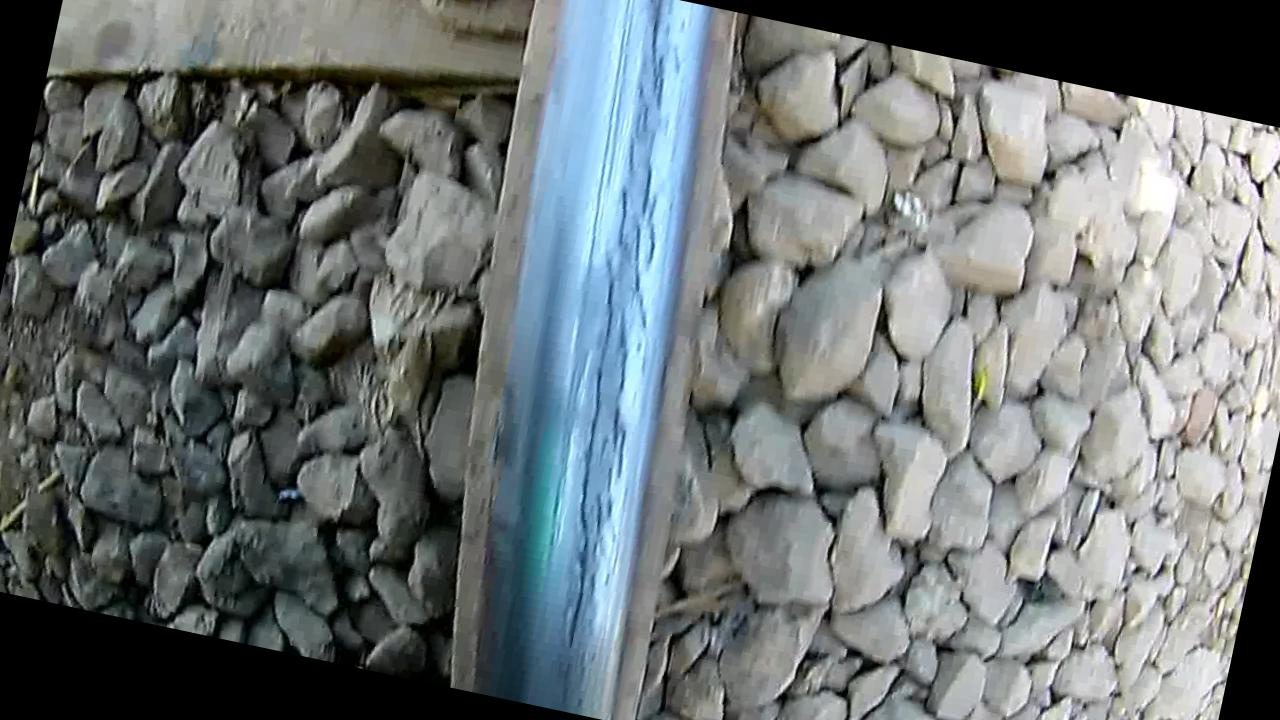normal_track: (478, 0, 732, 664)
